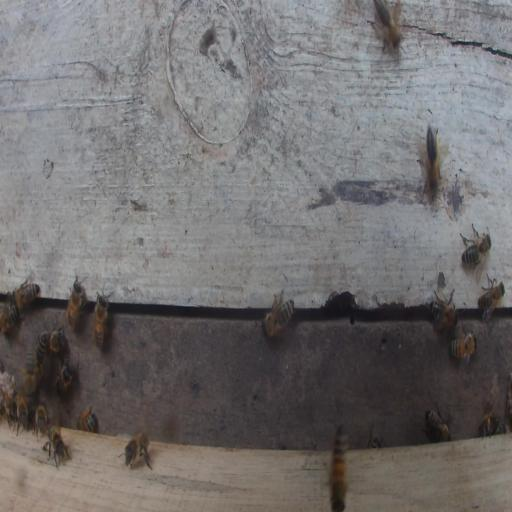nonpollenbee: (366, 1, 402, 58), (262, 288, 294, 339), (459, 222, 491, 272), (331, 421, 349, 508), (478, 274, 505, 323), (43, 425, 72, 469), (123, 430, 153, 470), (91, 290, 111, 350), (450, 331, 477, 363), (11, 282, 40, 311), (425, 410, 451, 442), (55, 359, 76, 397), (428, 300, 458, 325), (68, 281, 83, 328), (478, 411, 506, 436), (24, 345, 36, 398), (0, 303, 19, 335), (34, 403, 49, 441), (36, 330, 49, 369), (49, 327, 66, 355), (1, 390, 15, 418), (17, 396, 27, 427)
pollenbee: (416, 124, 441, 198), (80, 409, 96, 433)
